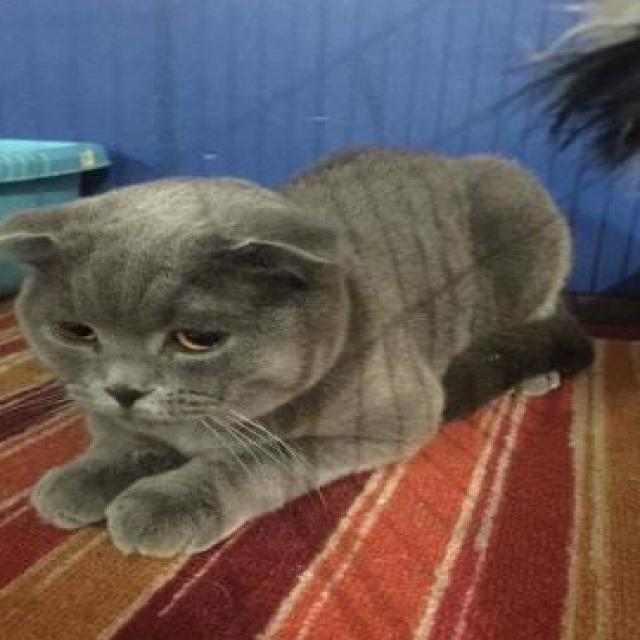Scottish Fold: (0, 137, 600, 562)
